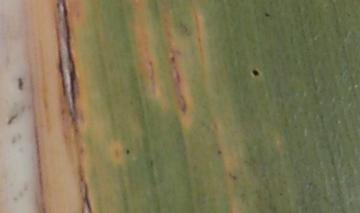tarspot: (6, 114, 18, 127), (16, 76, 24, 91), (250, 68, 261, 78), (169, 55, 177, 65), (263, 10, 271, 19), (124, 146, 131, 156), (215, 147, 222, 156), (230, 174, 238, 181), (277, 191, 284, 197)
